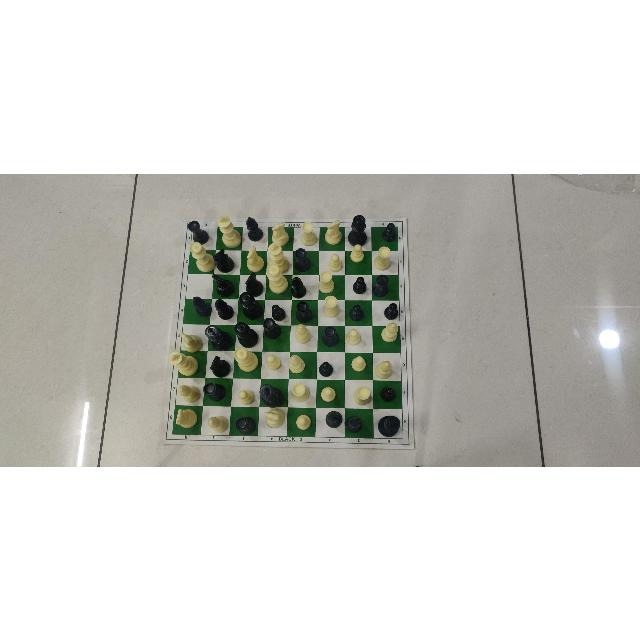black-bishop: (242, 216, 264, 246), (189, 293, 210, 320), (213, 297, 234, 321), (324, 408, 344, 432), (346, 410, 366, 433), (289, 275, 309, 297)
black-king: (258, 380, 289, 405), (202, 324, 231, 347)
black-knight: (243, 271, 264, 298), (211, 275, 235, 298), (207, 353, 230, 377), (215, 250, 239, 271)
black-pawn: (378, 383, 399, 405), (376, 221, 397, 242), (346, 302, 368, 322), (317, 357, 337, 378), (379, 302, 399, 322), (348, 277, 370, 295), (268, 302, 288, 320)
black-queen: (233, 320, 260, 348), (237, 291, 263, 317), (375, 413, 402, 437), (347, 213, 366, 247)
black-rook: (186, 220, 212, 246), (263, 315, 283, 343), (233, 414, 257, 435), (371, 274, 395, 295), (293, 248, 314, 272), (202, 381, 227, 401), (320, 326, 342, 348), (293, 299, 313, 323)
white-bishop: (291, 322, 316, 347), (286, 352, 311, 375), (377, 320, 399, 346), (178, 381, 200, 403), (205, 414, 229, 434), (375, 358, 397, 379)
white-king: (214, 216, 242, 249), (168, 350, 203, 376), (267, 243, 293, 273)
white-knight: (322, 219, 346, 247), (269, 219, 291, 248), (180, 329, 206, 352), (243, 244, 264, 272), (175, 408, 199, 432), (262, 408, 286, 431)
white-pawn: (234, 384, 256, 405), (291, 412, 314, 432), (347, 354, 370, 374), (262, 352, 284, 372), (319, 385, 340, 405), (346, 329, 368, 347), (349, 243, 367, 264), (324, 255, 344, 273)
white-queen: (188, 241, 216, 273), (267, 265, 291, 297), (232, 346, 258, 374)
white-rook: (297, 220, 319, 247), (372, 244, 394, 270), (349, 383, 372, 406), (320, 294, 342, 318), (290, 381, 312, 401), (318, 269, 335, 292)
